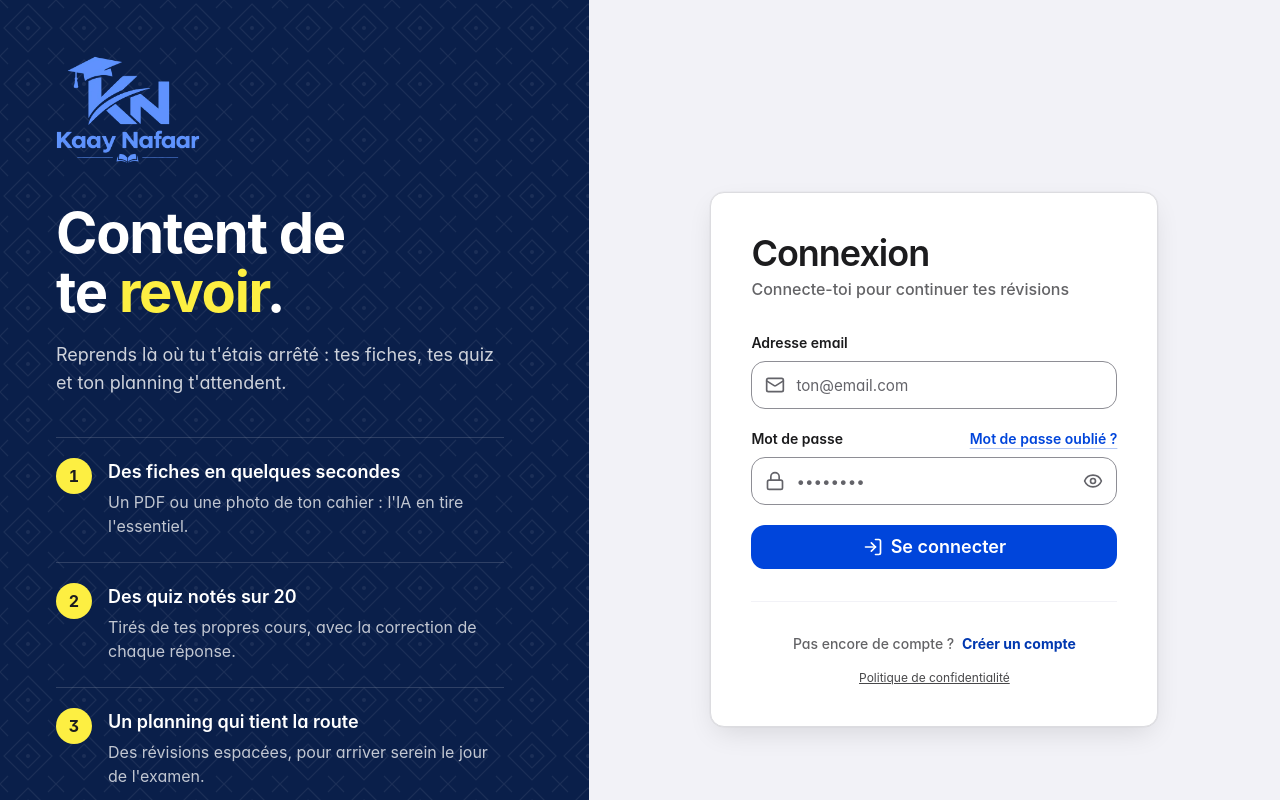
Test: Page Connexion › affiche le message du serveur en cas d'échec
Type "awa@esp.sn" into the field labelled "Adresse email" at (934, 385), box [751, 361, 1117, 409]
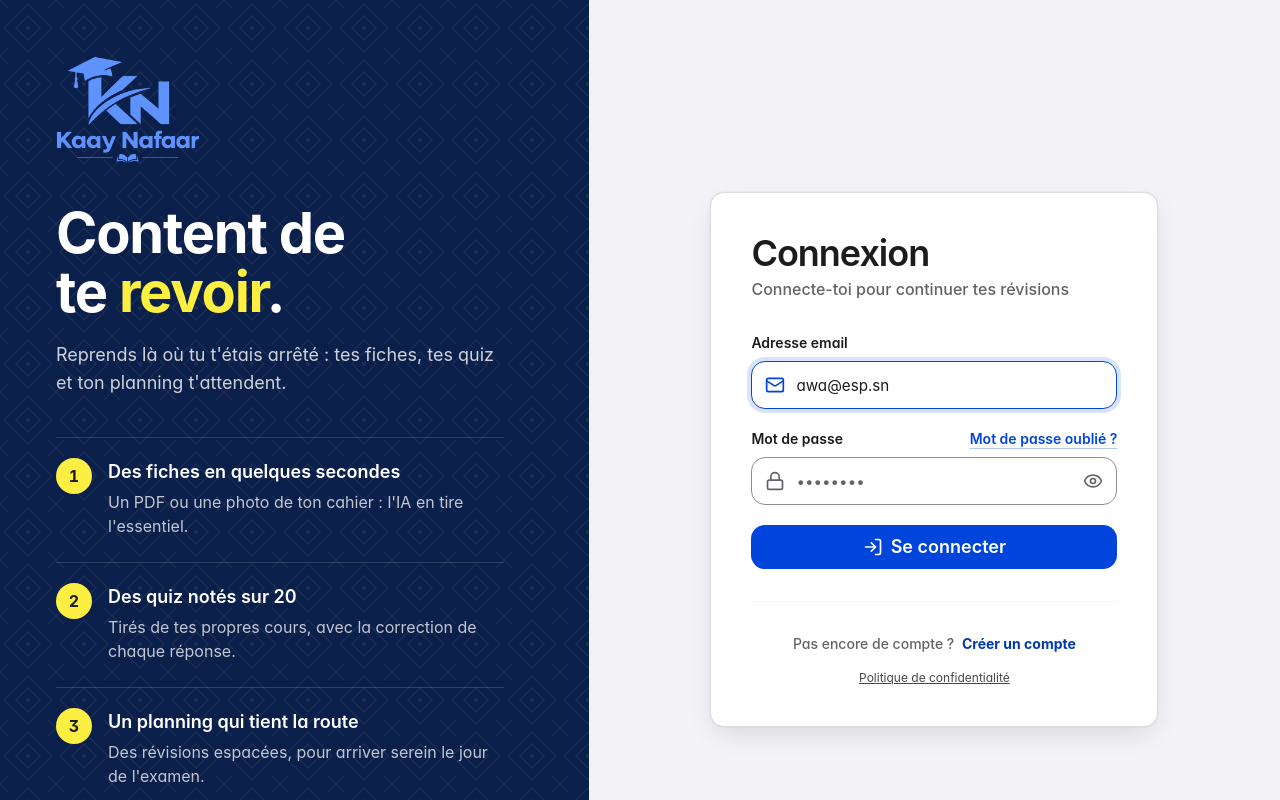
Type "mauvais-mdp" into the password field labelled "Mot de passe" at (934, 481), box [751, 457, 1117, 505]
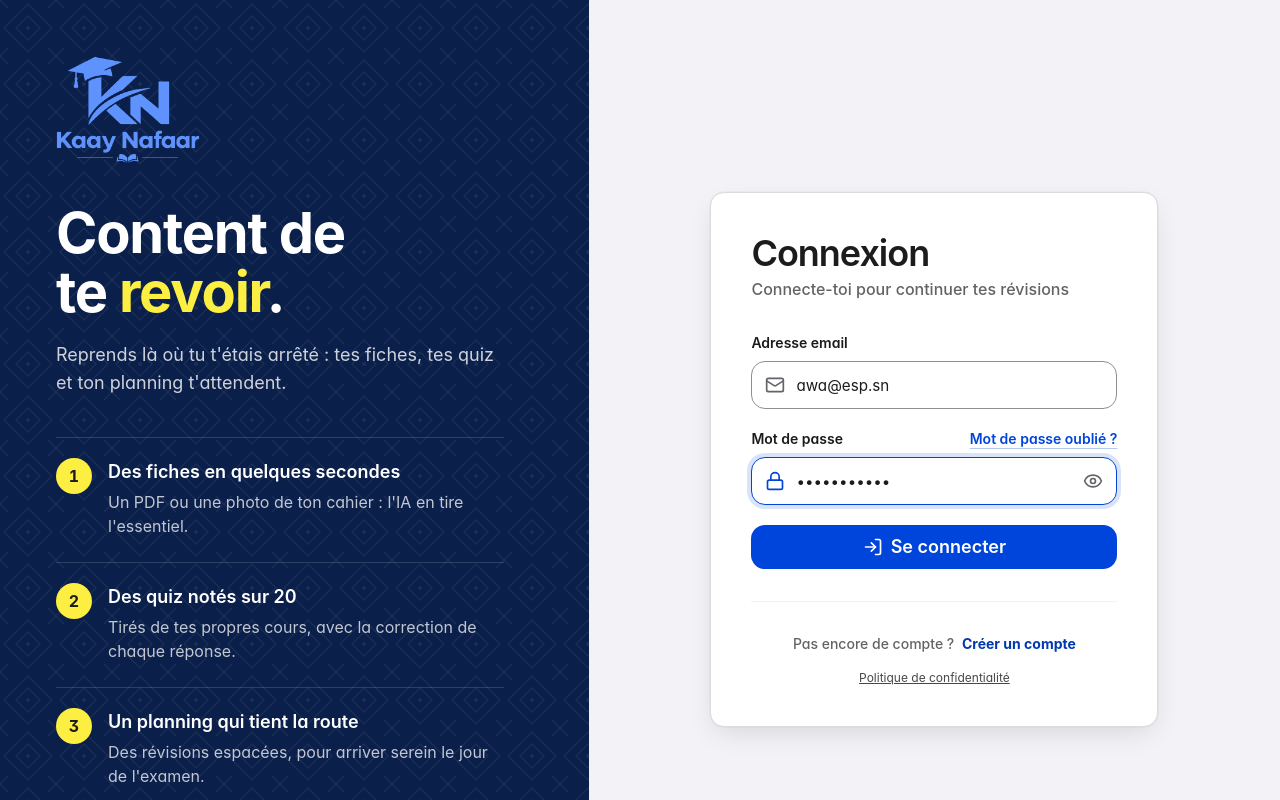
Click the button "Se connecter" at (934, 547), box [751, 525, 1117, 569]
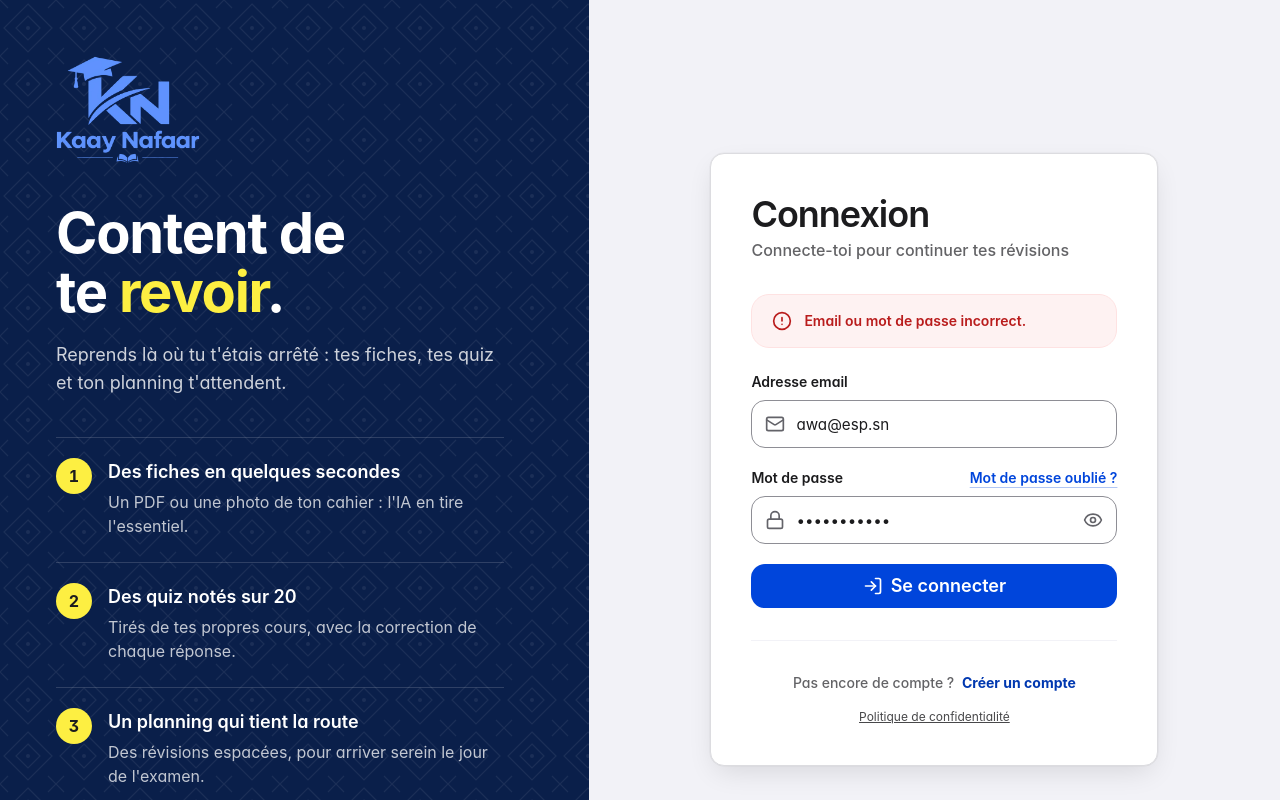
Expected: the message reads "Email ou mot de passe incorrect.", [804, 312, 1026, 329]
